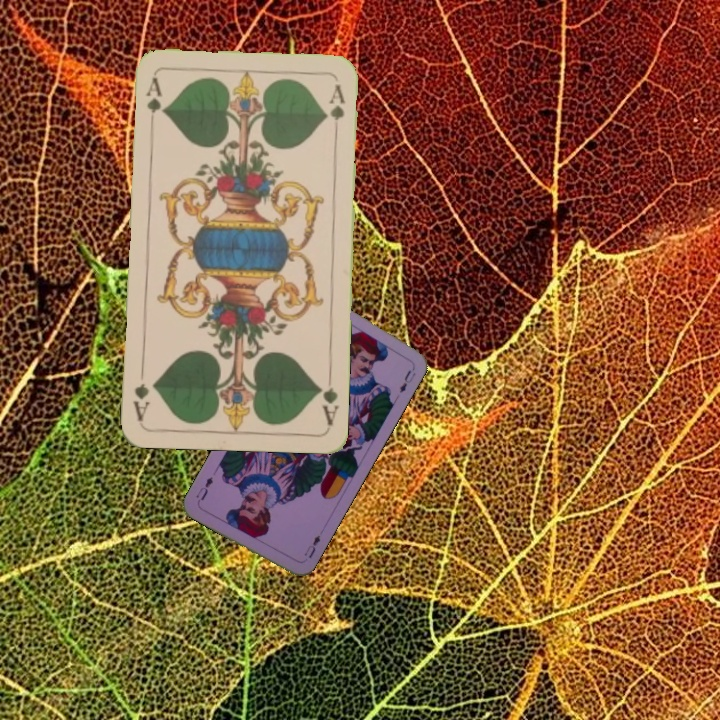EU: (300, 531, 323, 561)
GA: (314, 368, 341, 428), (142, 74, 165, 132)
